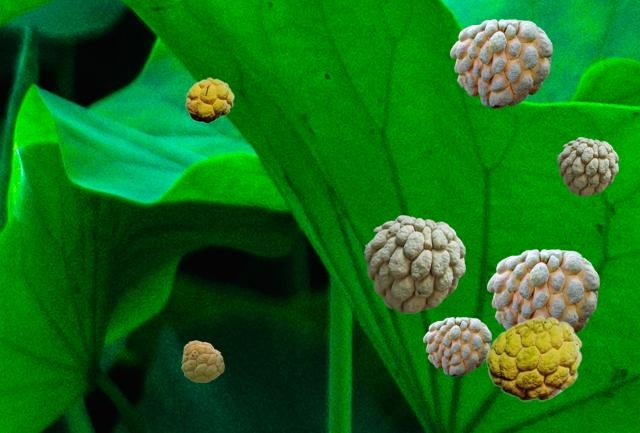atis: (364, 215, 464, 312), (487, 249, 598, 333), (450, 19, 551, 107), (485, 316, 581, 400), (423, 317, 490, 375), (557, 137, 617, 195), (185, 77, 233, 122), (181, 340, 223, 381)
